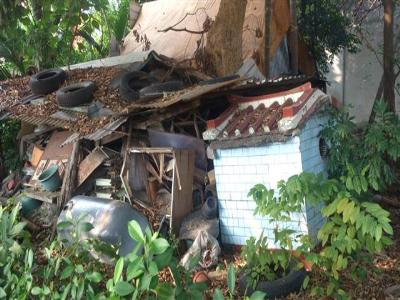bowl: (37, 165, 62, 191)
tire: (56, 80, 97, 108), (119, 70, 154, 100), (27, 67, 66, 93), (138, 80, 186, 100)
